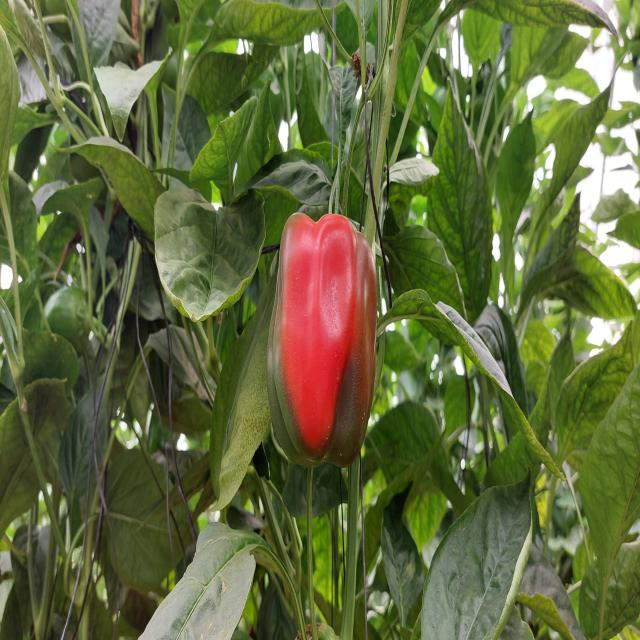BrownishRed--Can-be-Harvested: (269, 214, 377, 486)
